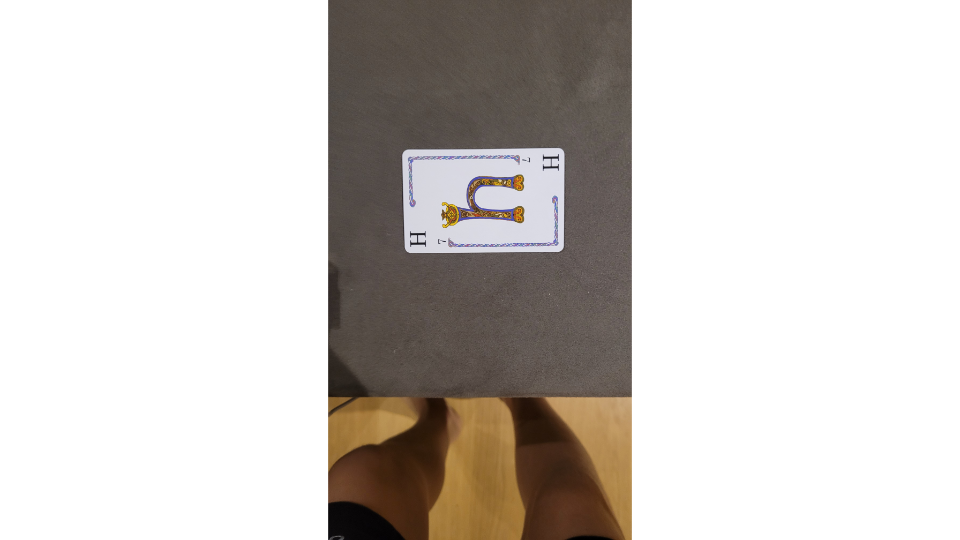H: (396, 142, 571, 260)
